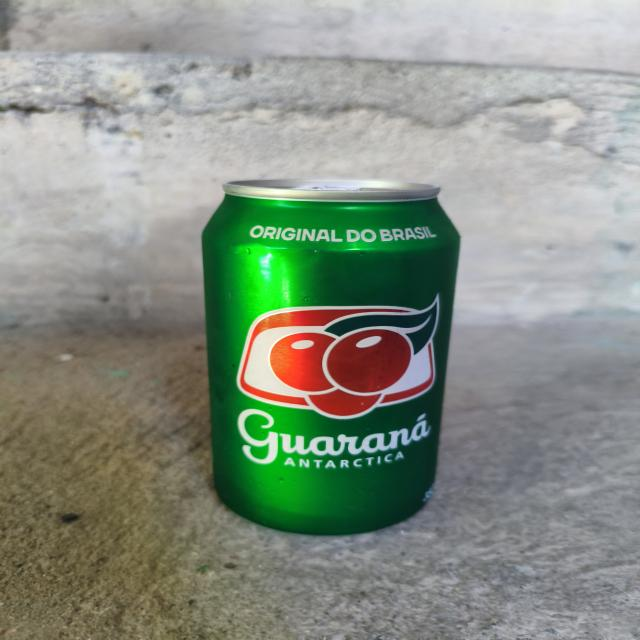Guarana: (190, 155, 480, 541)
